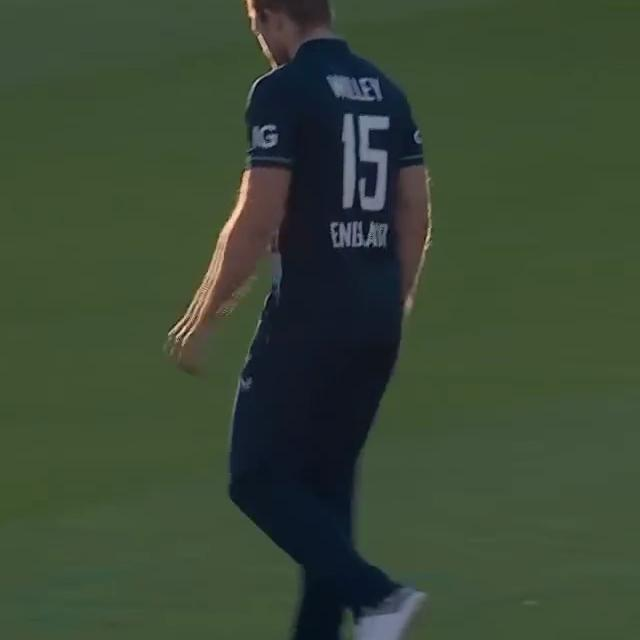person: (159, 0, 443, 640)
